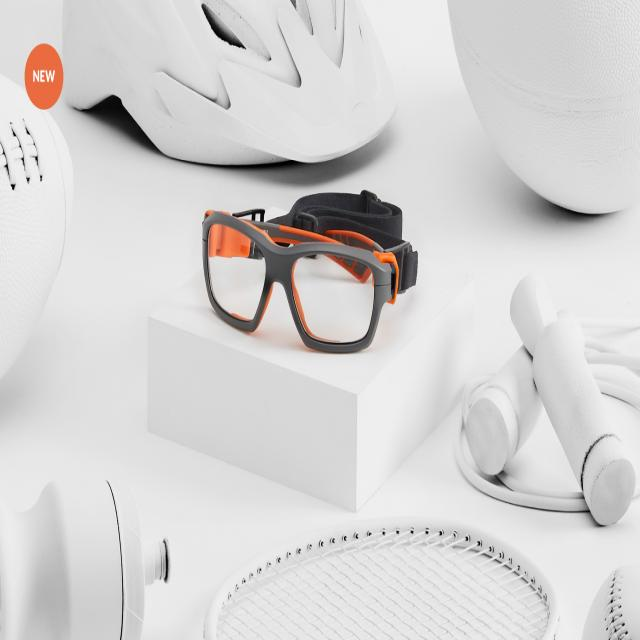Protective Glasses: (187, 180, 426, 360)
